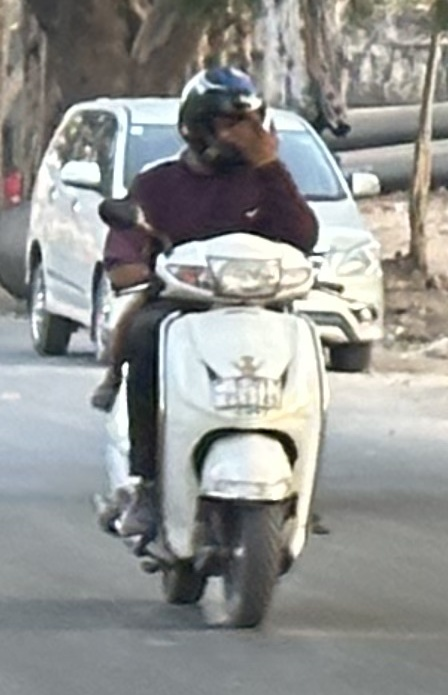BikeWithRider: (76, 58, 392, 637)
Helmet: (165, 60, 283, 177)
